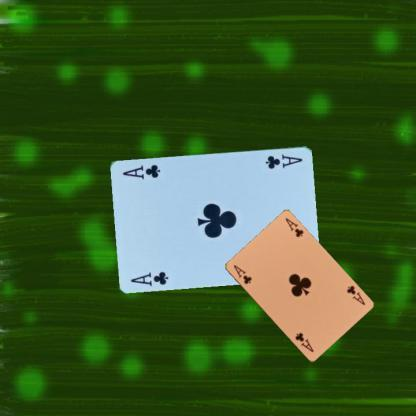Ac: (128, 268, 170, 287), (263, 151, 304, 170), (231, 262, 254, 286), (344, 282, 366, 306)
